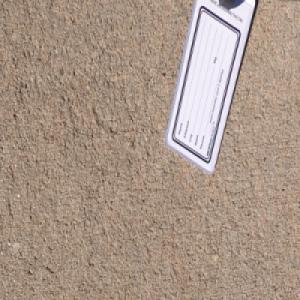LuggageTag: (164, 0, 256, 177)
